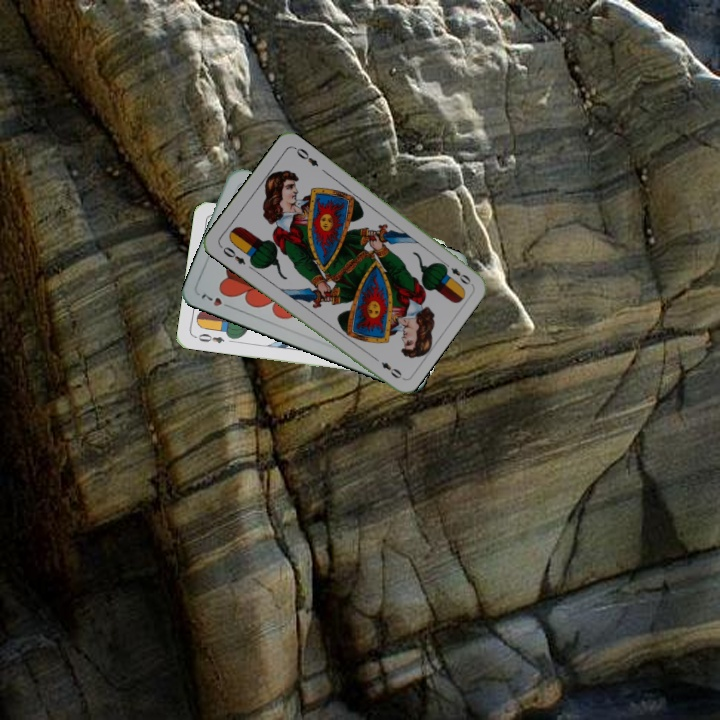EO: (438, 258, 474, 287), (216, 241, 248, 267), (191, 330, 227, 346)
H7: (197, 289, 235, 311)
